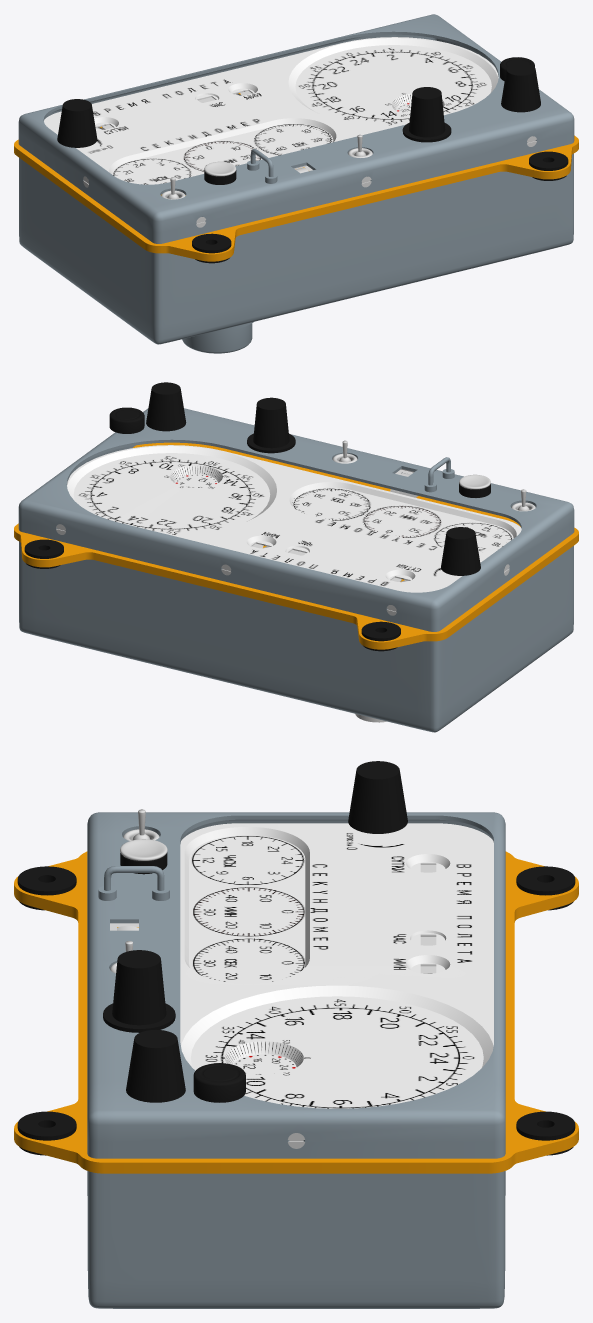
File: SoyuzElectroMechanicalSpaceClock_007.glb
3 views of the same model, one above another, from view 1: azimuth 30°, elevation 25°; view 2: azimuth 150°, elevation 25°; view 3: azimuth 270°, elevation 25° (orthographic). The views are drawn at different scales.
Parts seen in each view (by area): view 1: bottom_cap, plate_face, top_cap, flipped_plate, small_nob.002, small_nob.001, small_nob, cap, bump_rubber.003, bump_rubber.004; view 2: bottom_cap, plate_face, top_cap, flipped_plate, small_nob.002, small_nob.001, small_nob, white_circle_nob, bump_rubber.001, bump_rubber.002; view 3: plate_face, bottom_cap, top_cap, flipped_plate, small_nob.002, small_nob, small_nob.001, white_circle_nob, bump_rubber.002, bump_rubber.004, bump_rubber.001, bump_rubber.003 (+1 smaller).
Part boxes in pixels (x1,y1,x2,y2): bottom_cap: [19, 153, 573, 344]; plate_face: [44, 37, 498, 184]; top_cap: [18, 14, 574, 243]; flipped_plate: [14, 93, 578, 261]; small_nob.002: [402, 87, 451, 142]; small_nob.001: [501, 63, 540, 112]; small_nob: [57, 99, 97, 147]; cap: [182, 322, 253, 353]; bump_rubber.003: [192, 233, 231, 263]; bump_rubber.004: [529, 151, 568, 180]; bottom_cap: [19, 541, 573, 732]; plate_face: [67, 445, 521, 592]; top_cap: [18, 408, 574, 631]; flipped_plate: [14, 442, 578, 649]; small_nob.002: [247, 397, 295, 453]; small_nob.001: [146, 382, 186, 431]; small_nob: [441, 527, 480, 575]; white_circle_nob: [109, 407, 144, 433]; bump_rubber.001: [361, 621, 400, 651]; bump_rubber.002: [24, 539, 63, 568]; plate_face: [180, 823, 493, 1108]; bottom_cap: [87, 1171, 505, 1308]; top_cap: [87, 812, 505, 1158]; flipped_plate: [14, 851, 578, 1173]; small_nob.002: [103, 950, 175, 1032]; small_nob: [348, 761, 407, 833]; small_nob.001: [126, 1029, 185, 1102]; white_circle_nob: [193, 1063, 245, 1102]; bump_rubber.002: [516, 1111, 575, 1155]; bump_rubber.004: [17, 1111, 76, 1155]; bump_rubber.001: [516, 866, 575, 910]; bump_rubber.003: [17, 866, 76, 910].
Bounding box in the file's own units: 0.16 × 0.0717 × 0.1216.
Materials: 9 (4 with a texture image).
